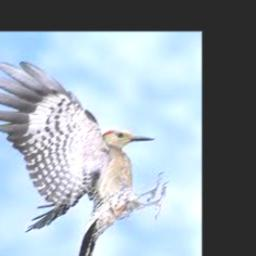Woodpecker: (0, 62, 169, 256)
